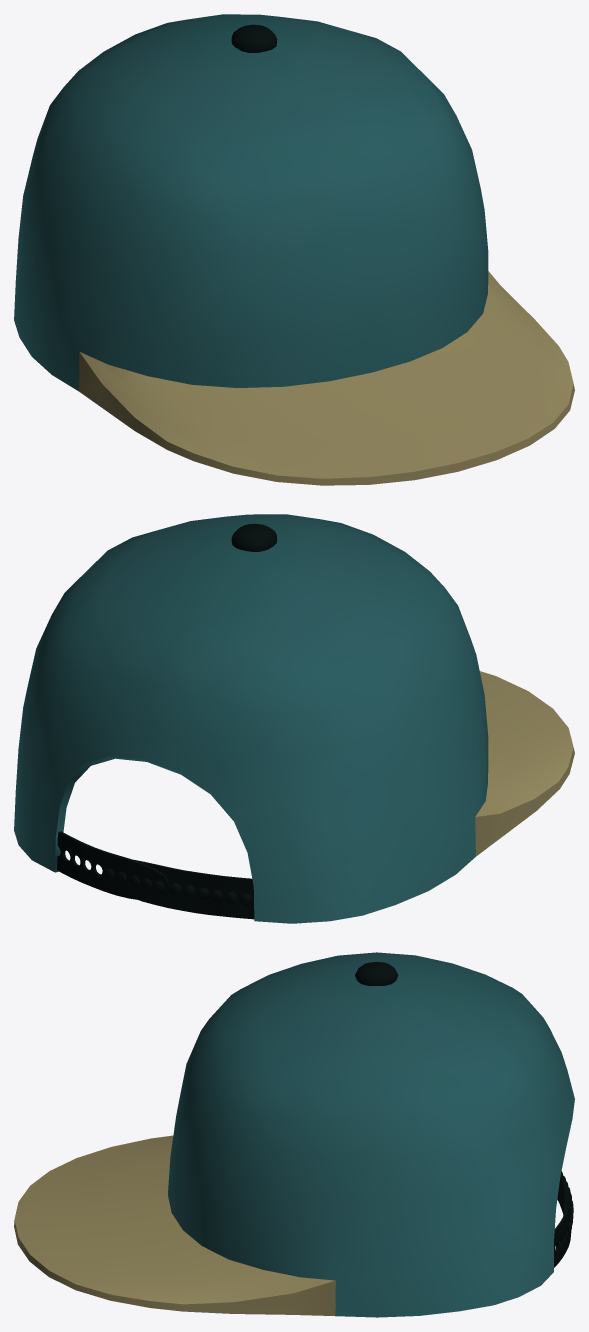
The model's file is hat-snapback.glb.
The picture shows the model from 3 angles, top to bottom: view 1: azimuth 30°, elevation 25°; view 2: azimuth 150°, elevation 25°; view 3: azimuth 270°, elevation 25°; orthographic projection. The views are drawn at different scales.
Parts seen in each view (by area): view 1: Baseball Cap; view 2: Baseball Cap; view 3: Baseball Cap.
Part boxes in pixels (x1,y1,x2,y2): Baseball Cap: (14, 14, 574, 485); Baseball Cap: (14, 514, 574, 923); Baseball Cap: (14, 952, 574, 1317).
Size of the model in its own units: 9.96e-05 by 7e-05 by 0.000134.
